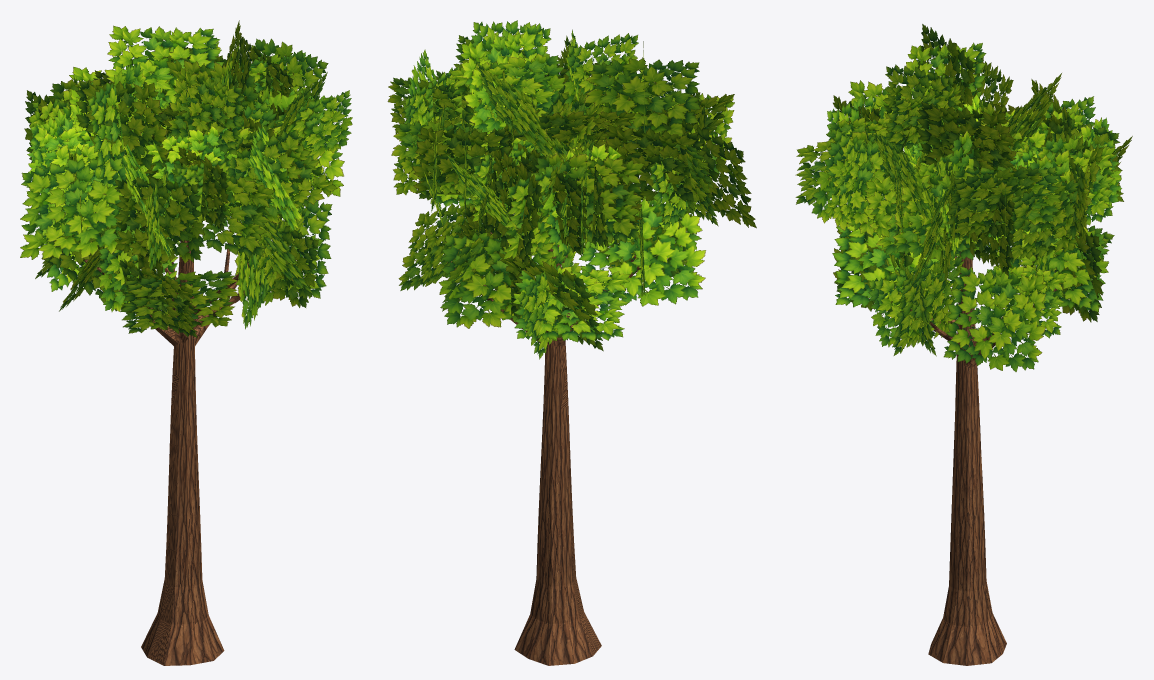
The model's file is SycamoreTree.glb.
The picture shows the model from 3 angles, left to right: view 1: azimuth 30°, elevation 25°; view 2: azimuth 150°, elevation 25°; view 3: azimuth 270°, elevation 25°; orthographic projection. The views are drawn at different scales.
Parts seen in each view (by area): view 1: tree_sycamore; view 2: tree_sycamore; view 3: tree_sycamore.
Part boxes in pixels (bbox=[...]): tree_sycamore: bbox=[20, 20, 352, 665]; tree_sycamore: bbox=[387, 20, 756, 665]; tree_sycamore: bbox=[795, 24, 1132, 665].
Size of the model in its own units: 7.59 by 13.08 by 7.19.
Materials: 2 (2 with a texture image).
